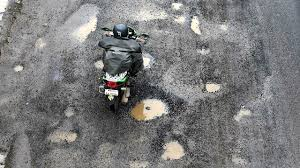pothole: (114, 90, 189, 129), (151, 137, 193, 162), (181, 9, 213, 40), (50, 127, 85, 148), (197, 77, 226, 102), (136, 50, 161, 75), (8, 62, 36, 80)
